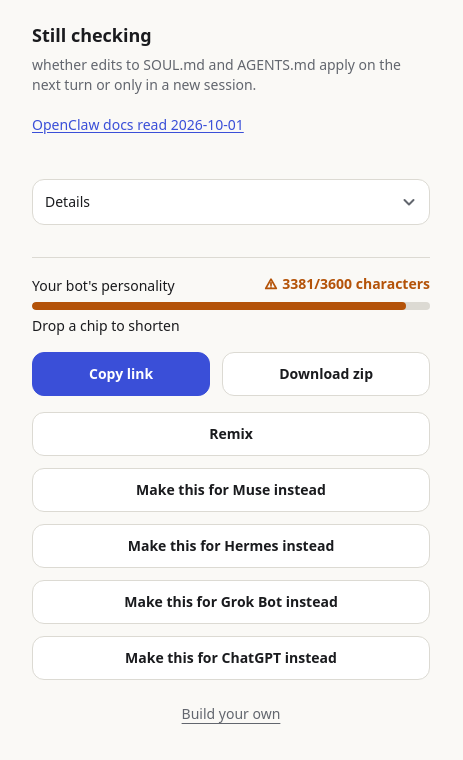
Test: Remix › shows the B12 warning with the short name of the target being remixed
The image size is (463, 760).
(page scrolled)
Click the button "Remix" at (231, 434), box [32,412,430,456]
(page scrolled)
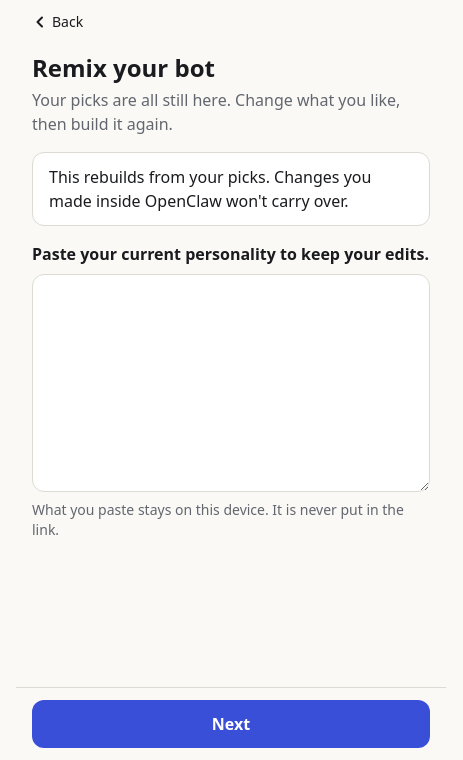
Now the text "This rebuilds from your picks. Changes you made inside OpenClaw won't carry over." is shown, box [49,166,371,212]
